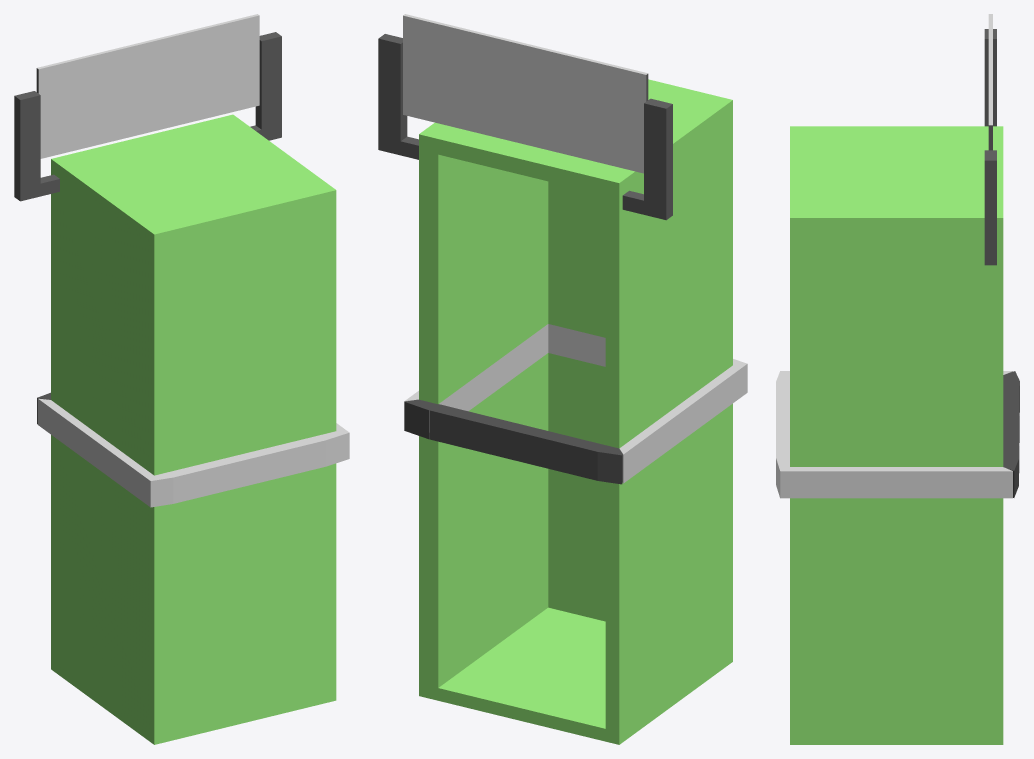
Rendered from dolapp.fbx.
The picture shows the model from 3 angles, left to right: view 1: azimuth 30°, elevation 25°; view 2: azimuth 150°, elevation 25°; view 3: azimuth 270°, elevation 25°; orthographic projection. The views are drawn at different scales.
Visible parts, largest first — view 1: Cube.003; view 2: Cube.003, Cube.006, Cube.007; view 3: Cube.003, Cube.006.
Boxes of the visible parts, x1,y1,x2,y2 form: Cube.003: [14, 14, 349, 744]; Cube.003: [378, 14, 747, 744]; Cube.006: [429, 404, 622, 484]; Cube.007: [404, 399, 437, 439]; Cube.003: [776, 14, 1012, 744]; Cube.006: [1003, 371, 1019, 472].
Bounding box in the file's own units: 59.22 × 132 × 46.3.
